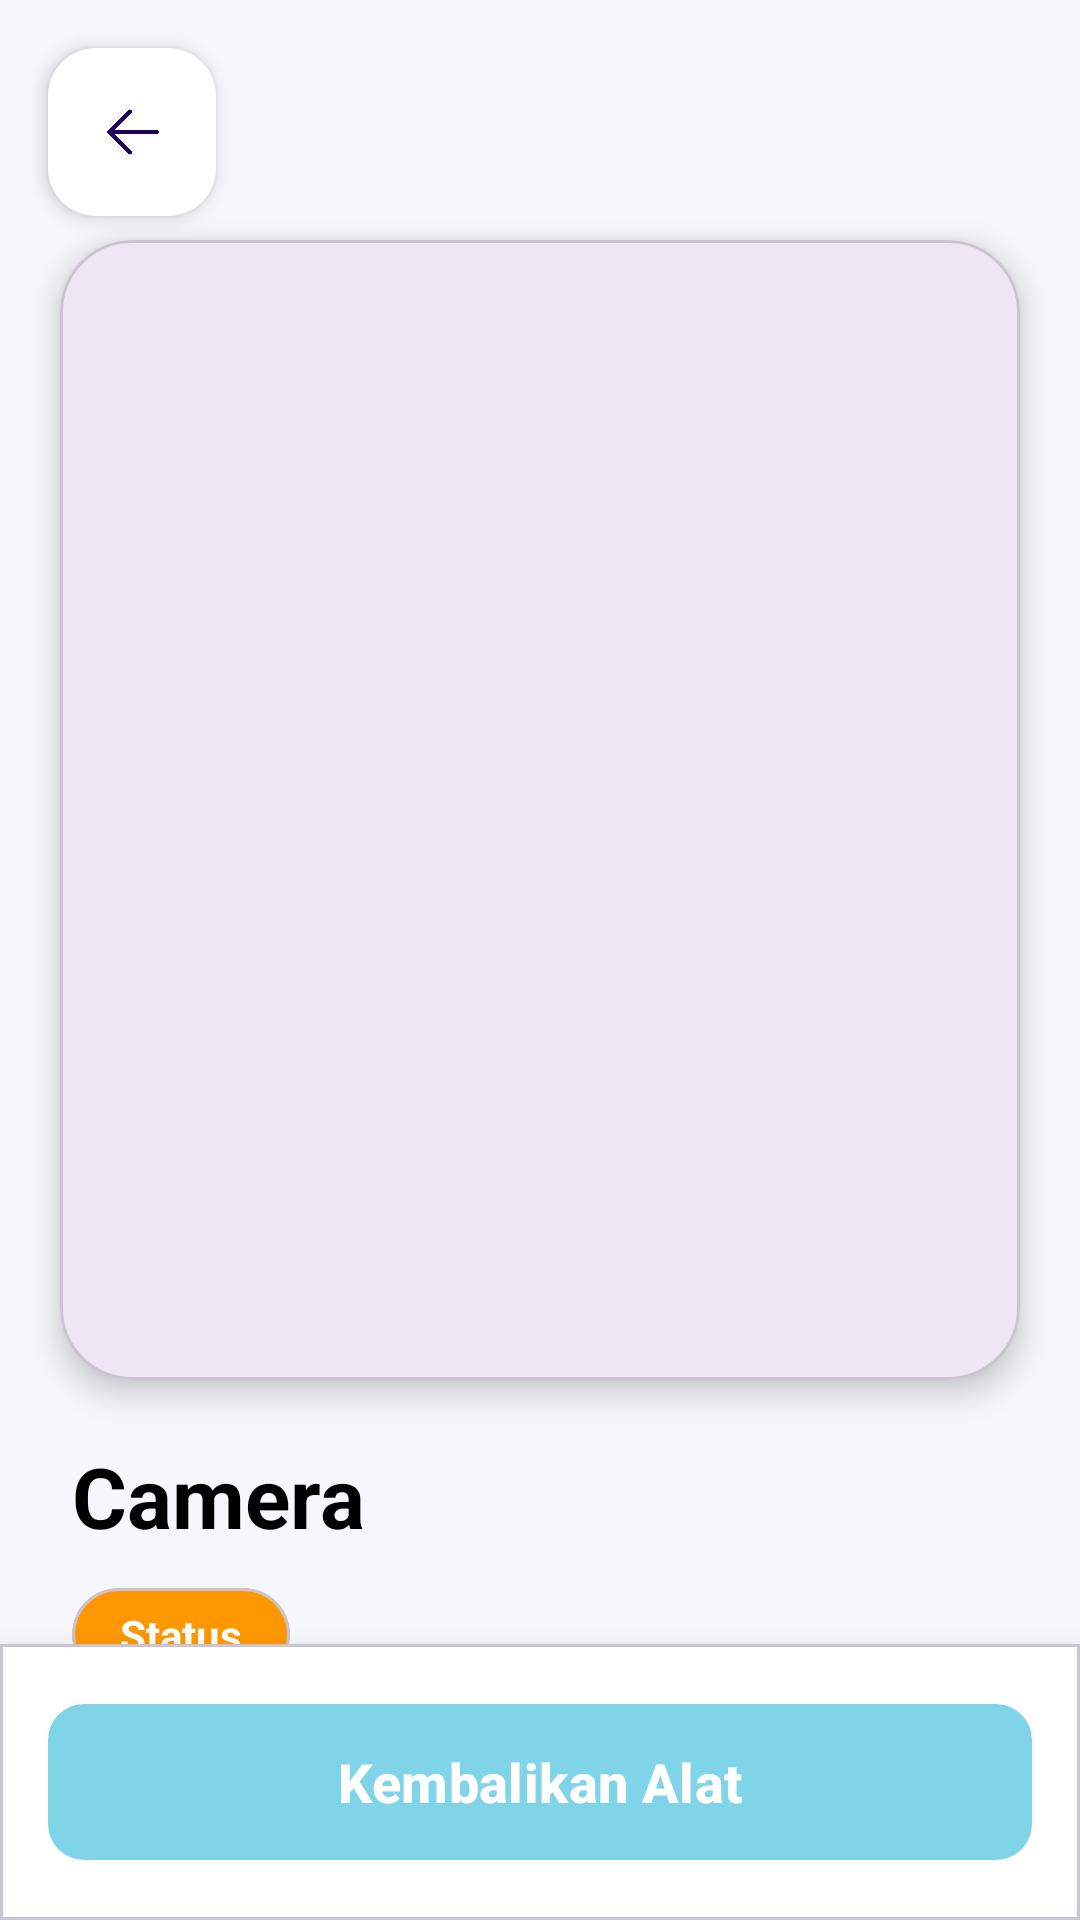

Where icons sit on this 1080w x 1920h app screen, as bbox=(x1, y1, x2, y2):
back: bbox=(48, 48, 216, 216)
